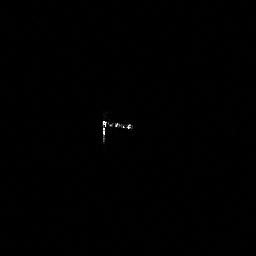ship: (101, 119, 131, 130)
